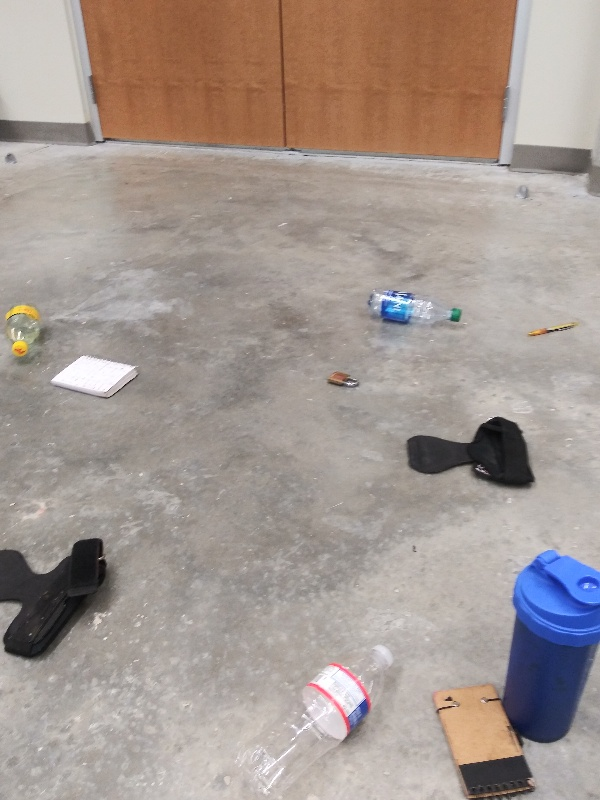bottle: (229, 636, 399, 800), (364, 287, 467, 327), (1, 298, 45, 359)
